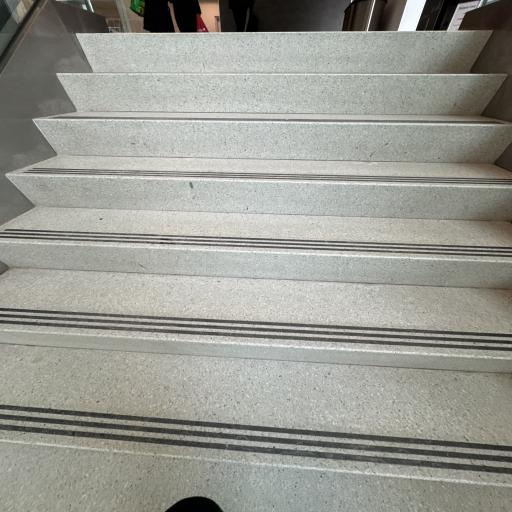Stairs: (0, 31, 512, 512), (0, 262, 512, 373), (9, 155, 512, 222)
